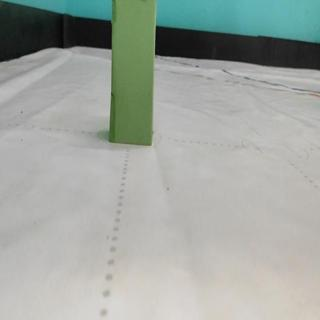greenbox: (111, 0, 157, 146)
